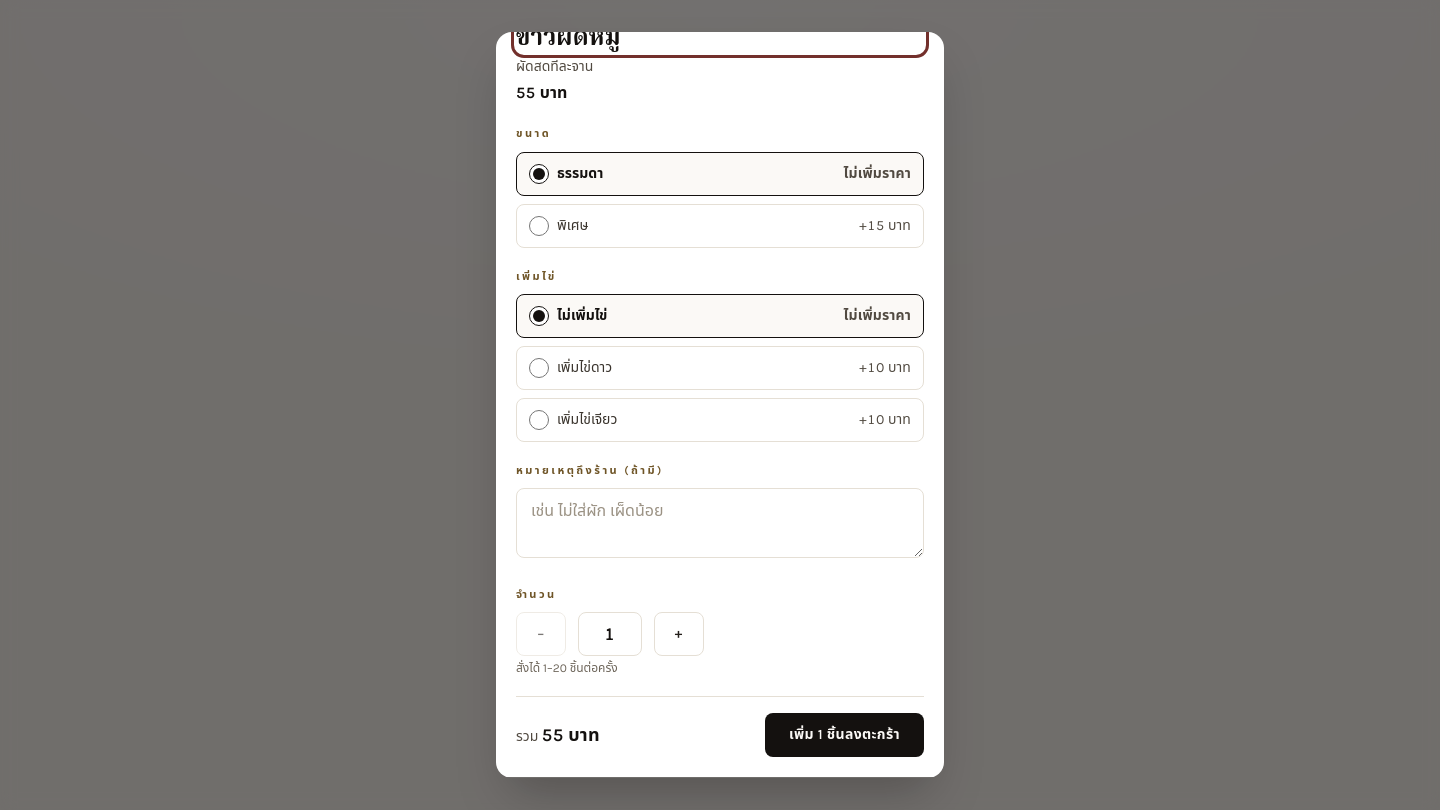
Scenario: ป๊อปอัปสั่งซื้อจากการ์ดเมนู › พิมพ์ 0 หรือเกินเพดาน ถูกดึงกลับเข้าช่วงเมื่อออกจากช่อง
(page scrolled)
Replace the text in the field named "จำนวนที่สั่ง" with "0": (610, 634) [578, 612, 642, 656]
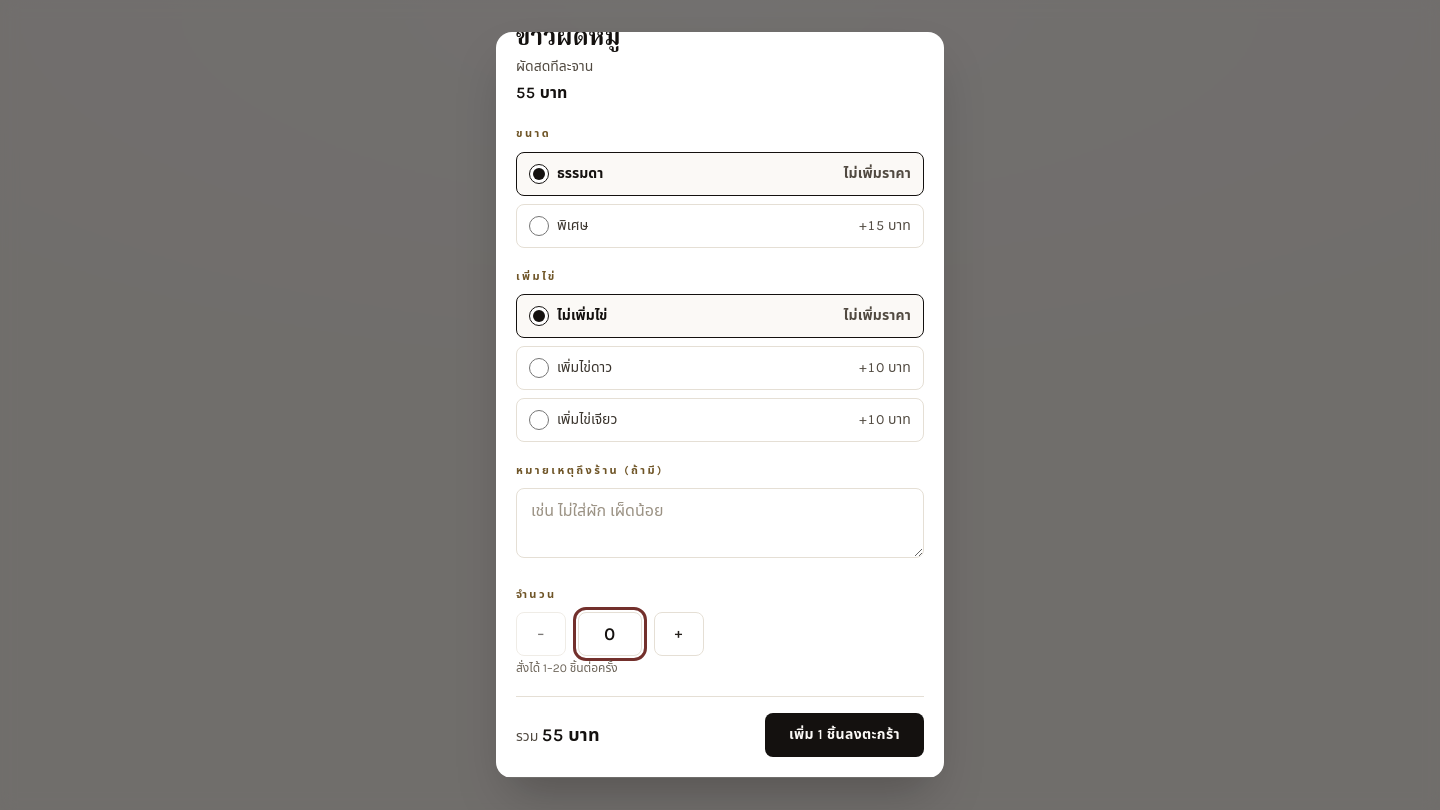
Leave the field named "จำนวนที่สั่ง", box [578, 612, 642, 656]
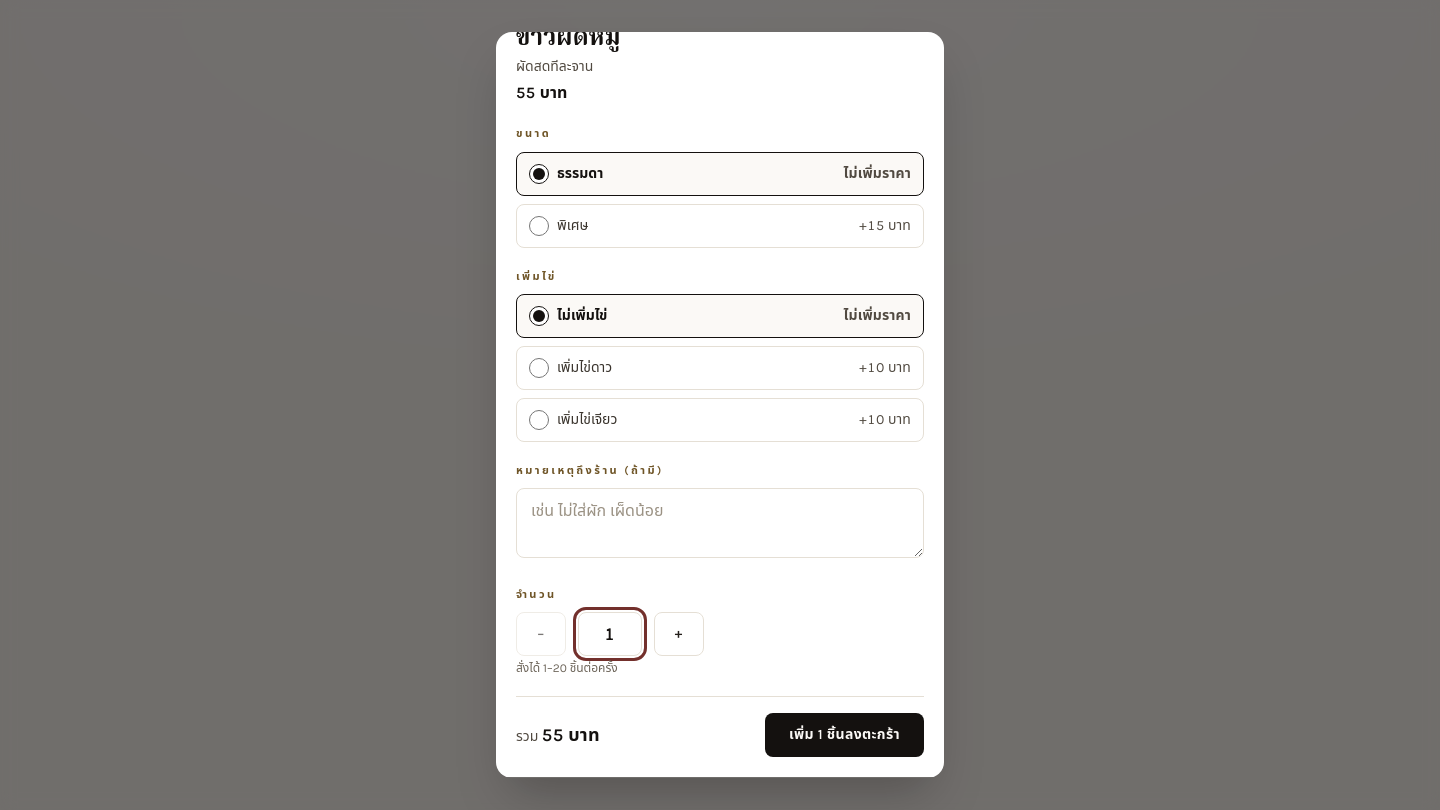
Expected: the field named "จำนวนที่สั่ง" holds "1"
Replace the text in the field named "จำนวนที่สั่ง" with "99": (610, 634) [578, 612, 642, 656]
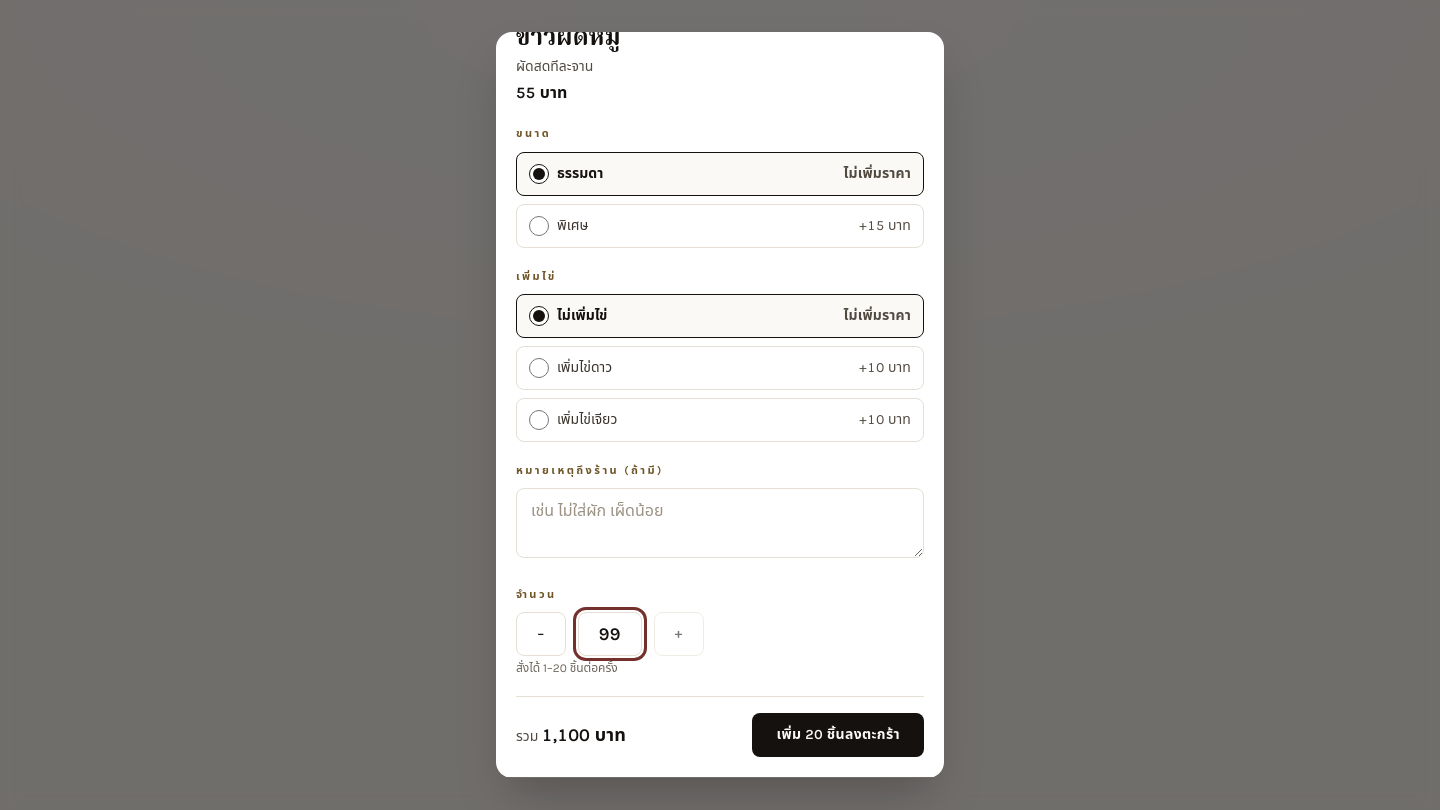
Leave the field named "จำนวนที่สั่ง", box [578, 612, 642, 656]
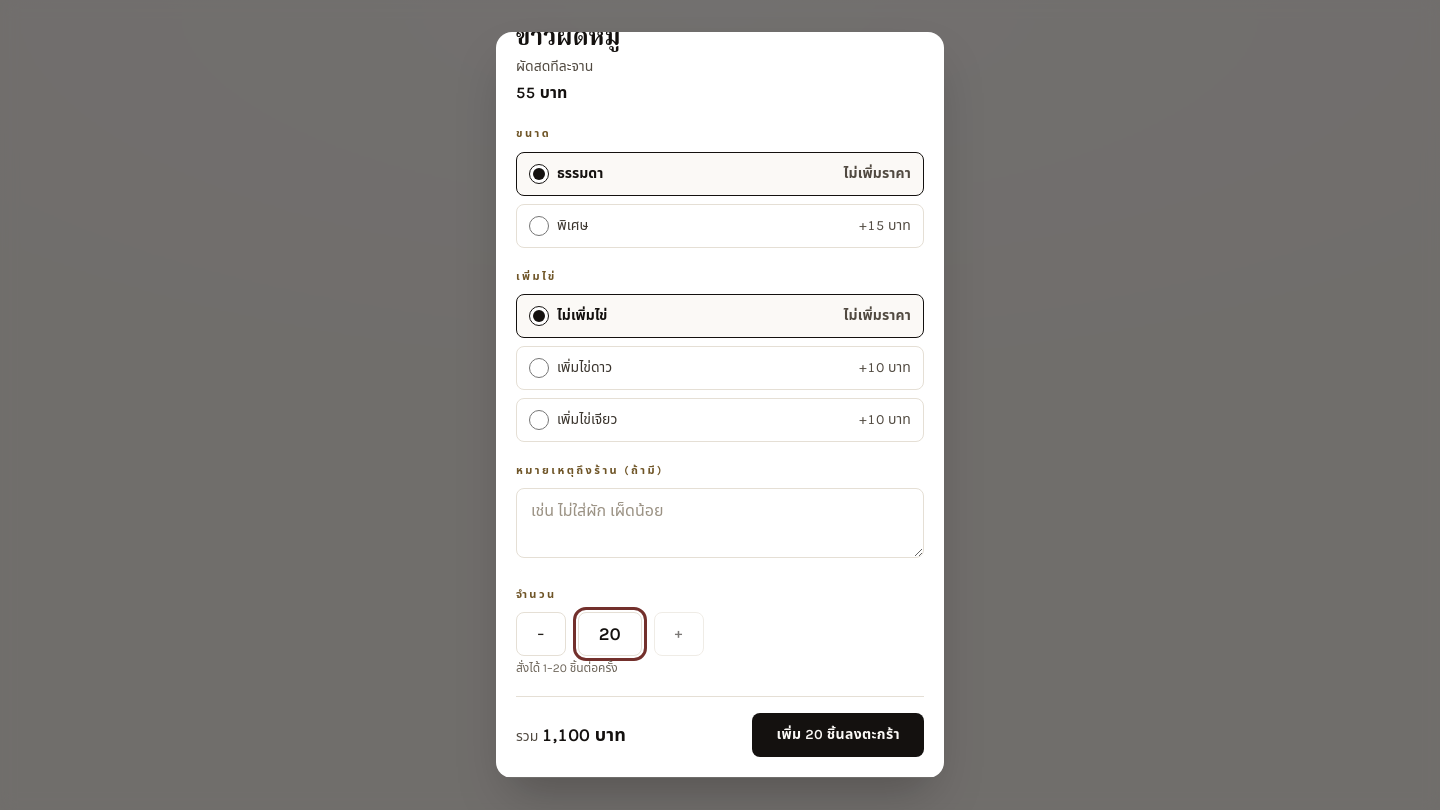
Expected: the field named "จำนวนที่สั่ง" holds "20", [578, 612, 642, 656]
